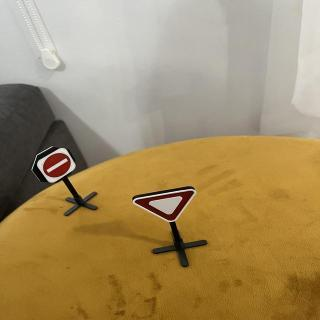sign_noentry: (37, 148, 79, 185)
sign_yield: (133, 188, 199, 224)
